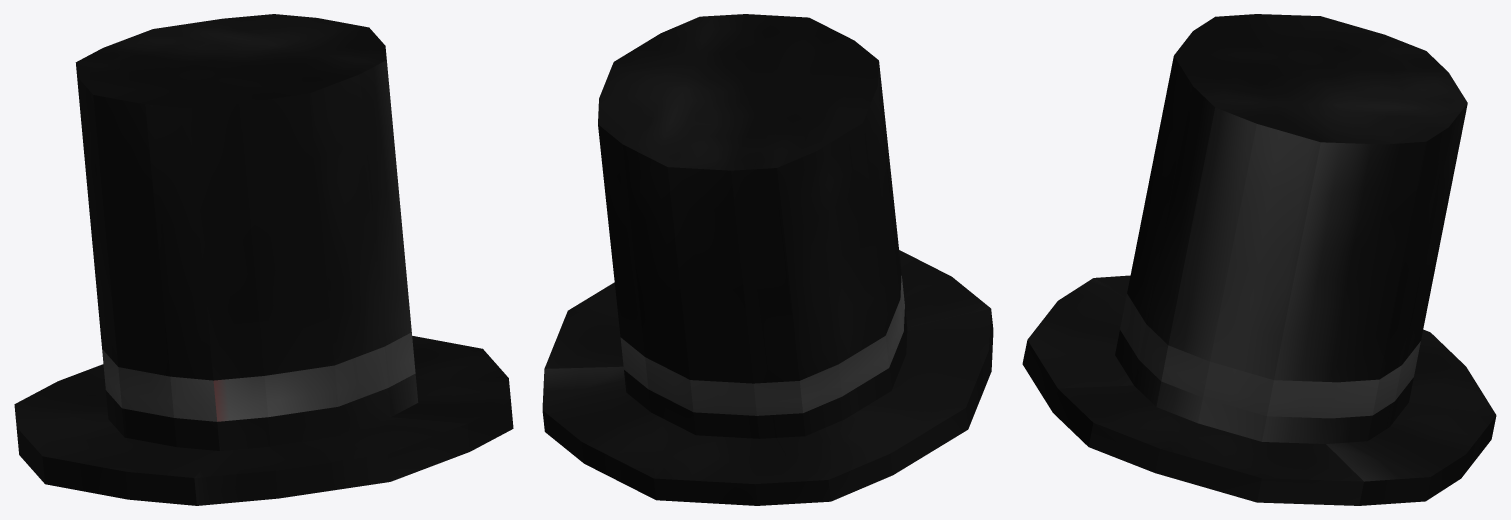
File: Tophat.fbx
3 renders of one model, left to right at view 1: azimuth 30°, elevation 25°; view 2: azimuth 150°, elevation 25°; view 3: azimuth 270°, elevation 25°, orthographic. The views are drawn at different scales.
Parts seen in each view (by area): view 1: Cube; view 2: Cube; view 3: Cube.
Part boxes in pixels (<box>): Cube: <box>14,14,513,505</box>; Cube: <box>542,14,993,505</box>; Cube: <box>1022,14,1496,505</box>.
Bounding box in the file's own units: 34.1 × 30.34 × 33.93.
